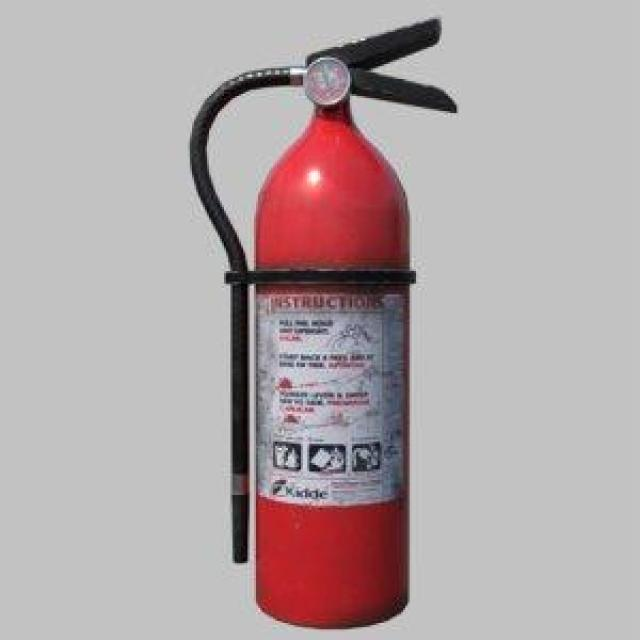fire_extinguisher: (182, 11, 464, 634)
